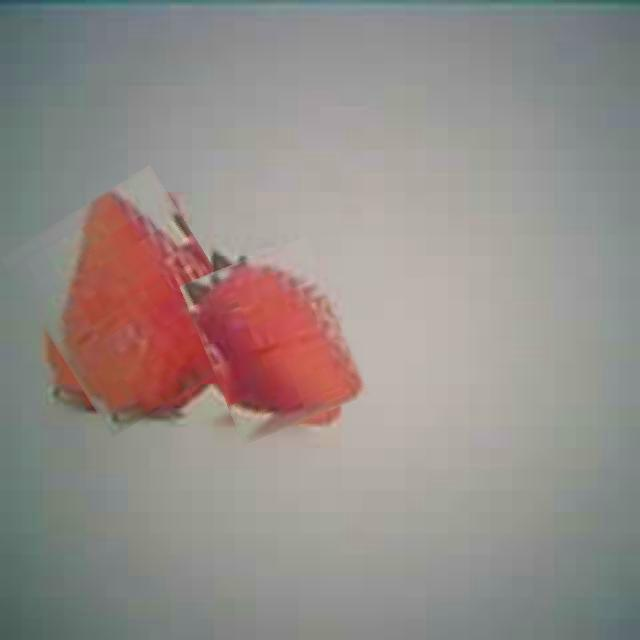strawberry: (22, 181, 240, 423), (194, 245, 358, 435)
